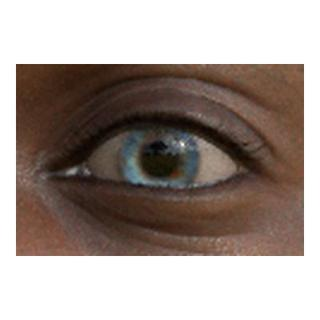pupil: (142, 142, 178, 177)
